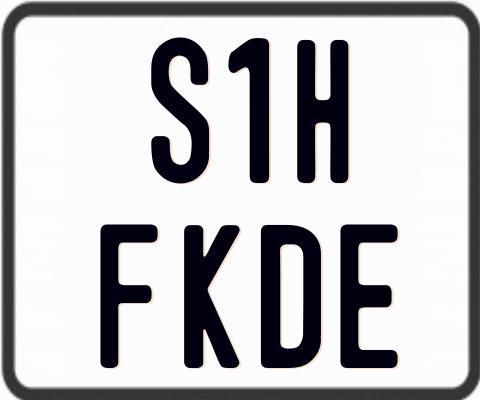1: (226, 36, 273, 187)
D: (261, 224, 325, 371)
E: (340, 221, 398, 368)
F: (100, 222, 163, 367)
H: (296, 39, 347, 187)
K: (183, 225, 240, 372)
S: (151, 36, 215, 185)
